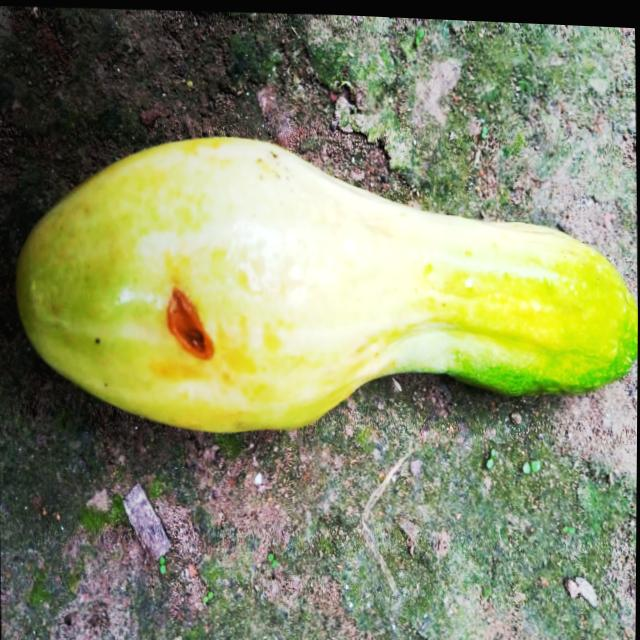Belly-Rot: (154, 275, 225, 367)
